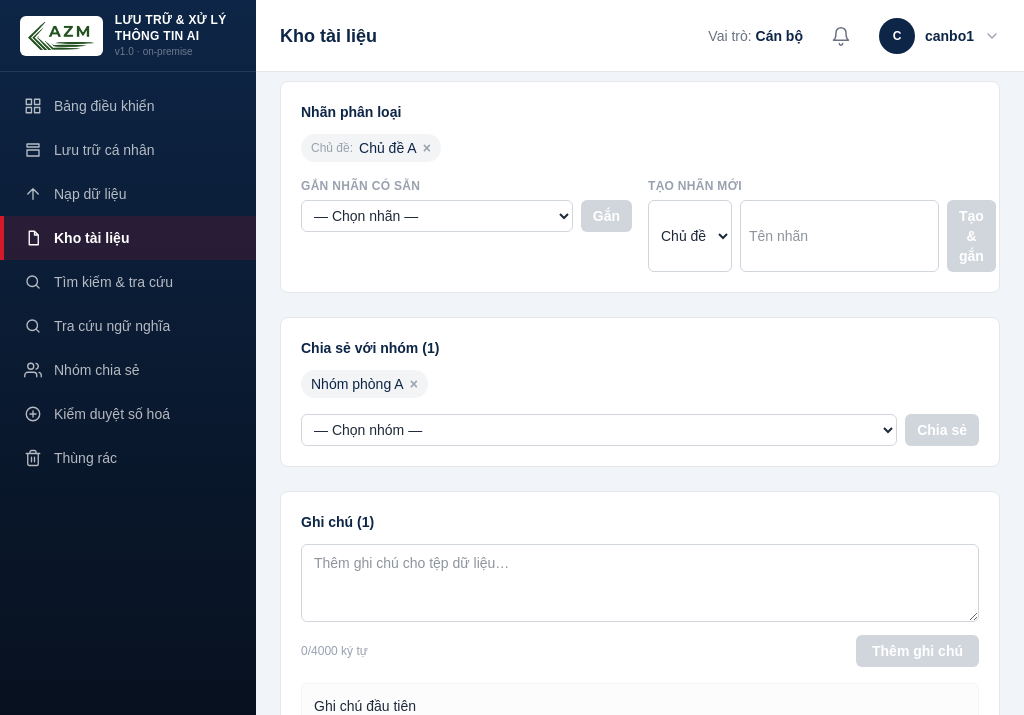
Test case: DocumentDetailPage › shows a friendly 403 message when unsharing fails for lack of permission
(page scrolled)
Check: the text "Nhóm phòng A" is shown, box [311, 376, 404, 392]
Click the button titled "Gỡ chia sẻ" next to "Nhóm phòng A" at (414, 384), box [410, 374, 418, 394]
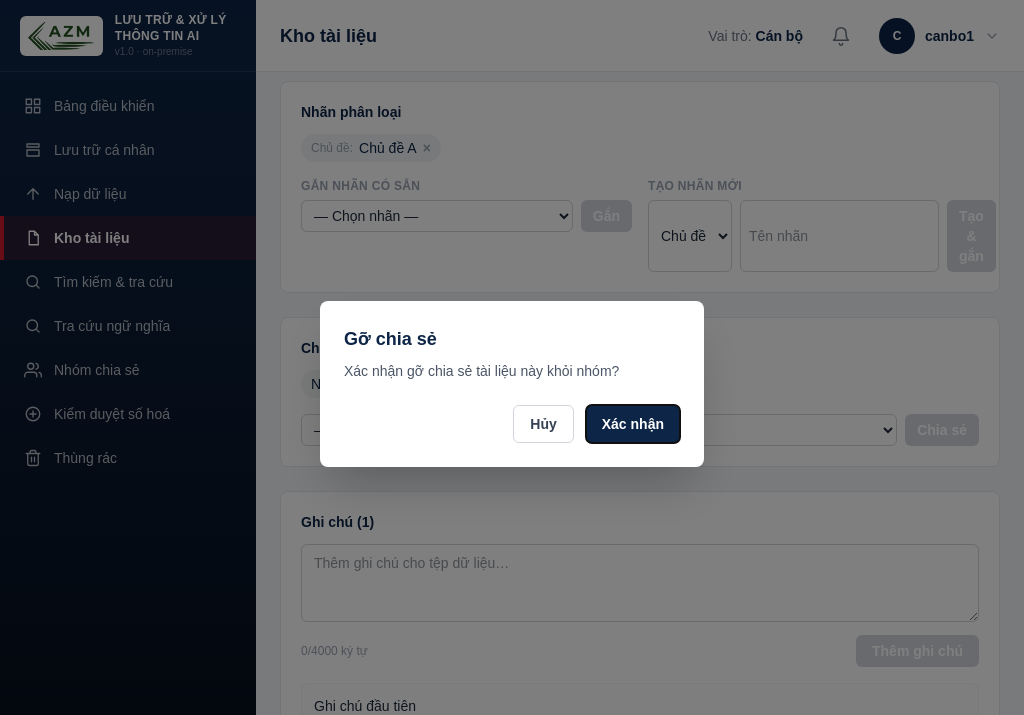
// ConfirmProvider dialog: confirm the removal.
Click the button "Xác nhận" at (633, 424), box [586, 405, 680, 443]
(page scrolled)
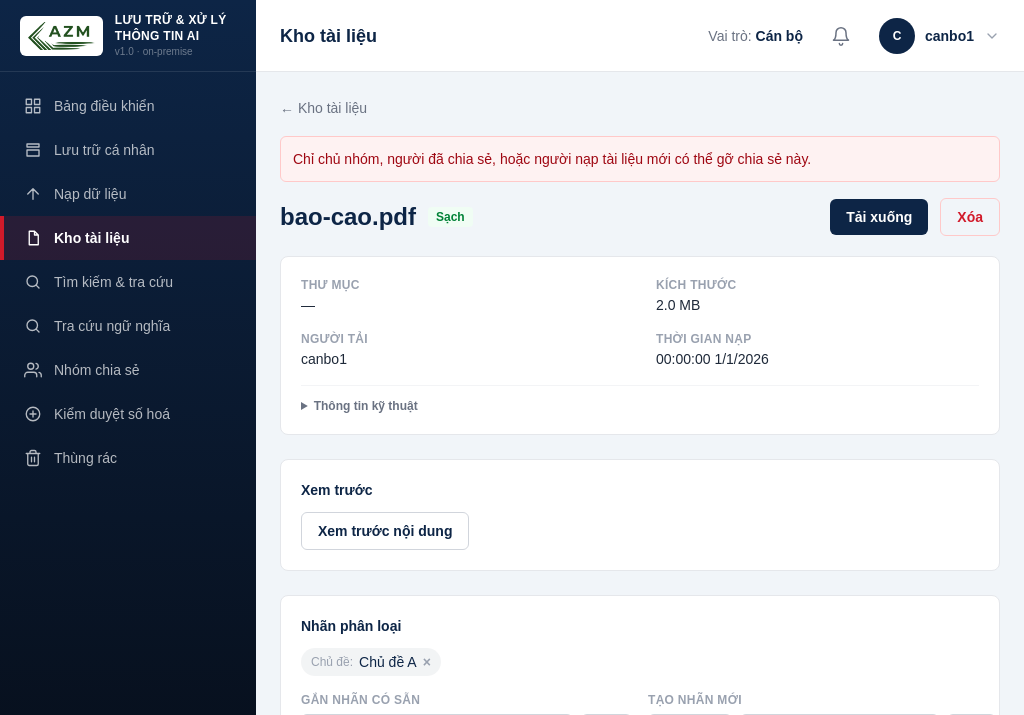
Check: the text "Chỉ chủ nhóm, người đã chia sẻ, hoặc người nạp tài liệu mới có thể gỡ chia sẻ này." is shown, box [293, 151, 811, 167]
